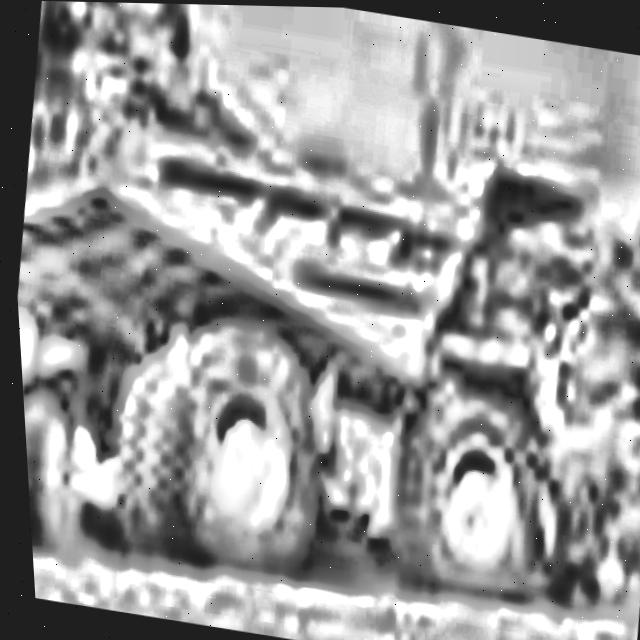dump_truck: (3, 59, 635, 632)
